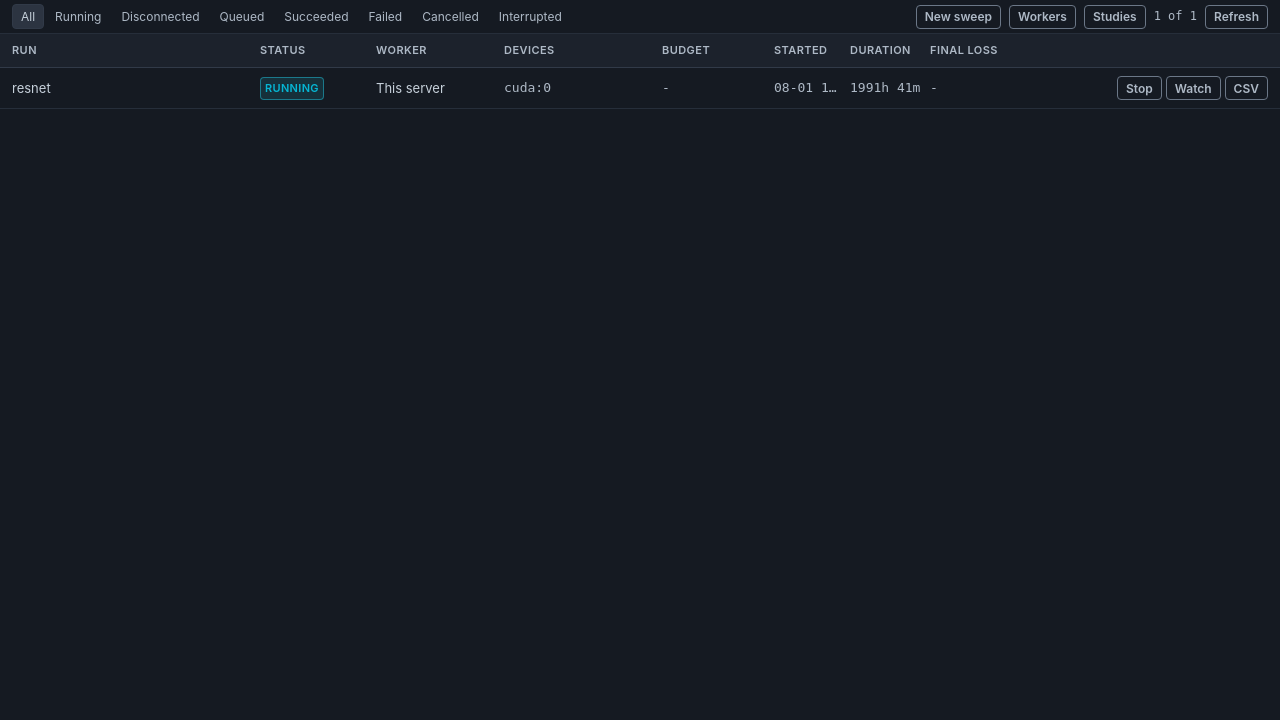
Test: RunsPanel — detail view › omits the deterministic marker when the run did not ask for it
This screenshot has width=1280, height=720.
Expected: the text "resnet" is shown, [12,80,51,96]
Click the button with aria-label "resnet — Running" at x=31, y=88, box [0,68,1279,109]
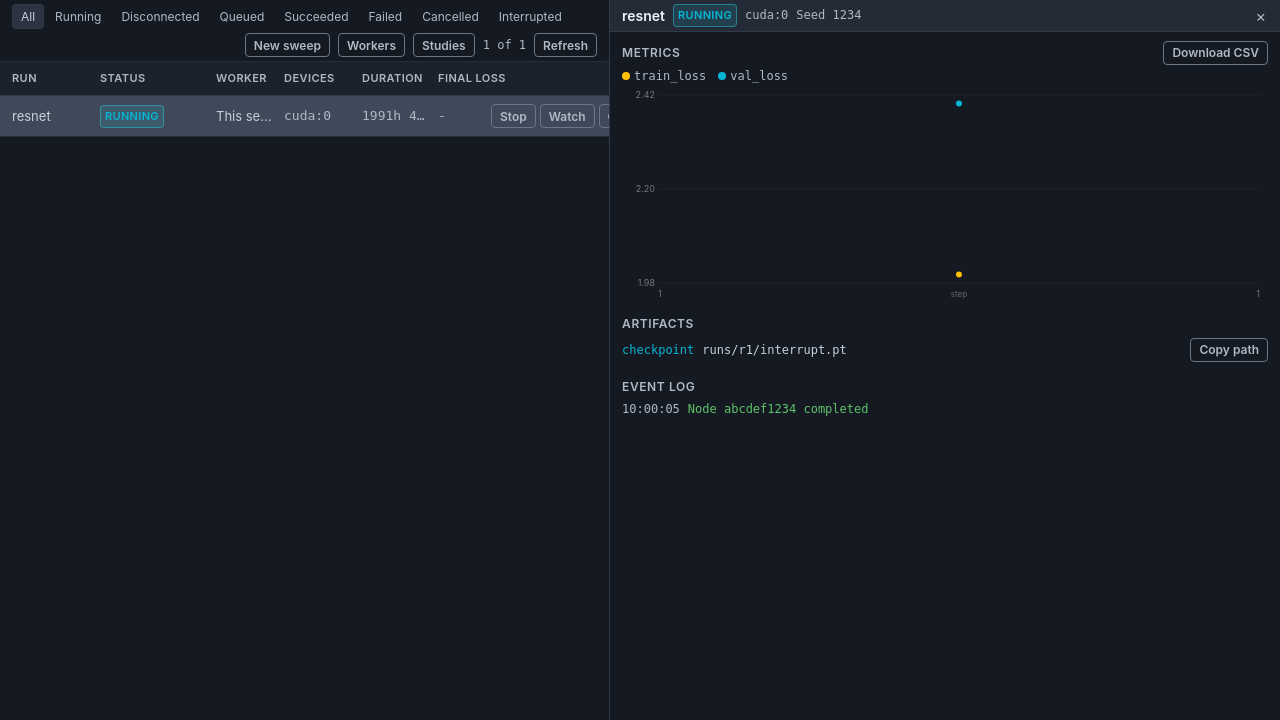
Now the element with test id "run-detail" is shown, box [609,0,1279,719]
